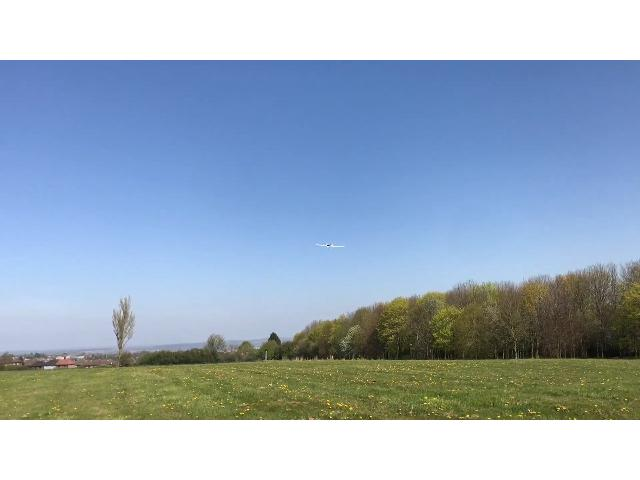Anti-Drone: (314, 234, 348, 257)
